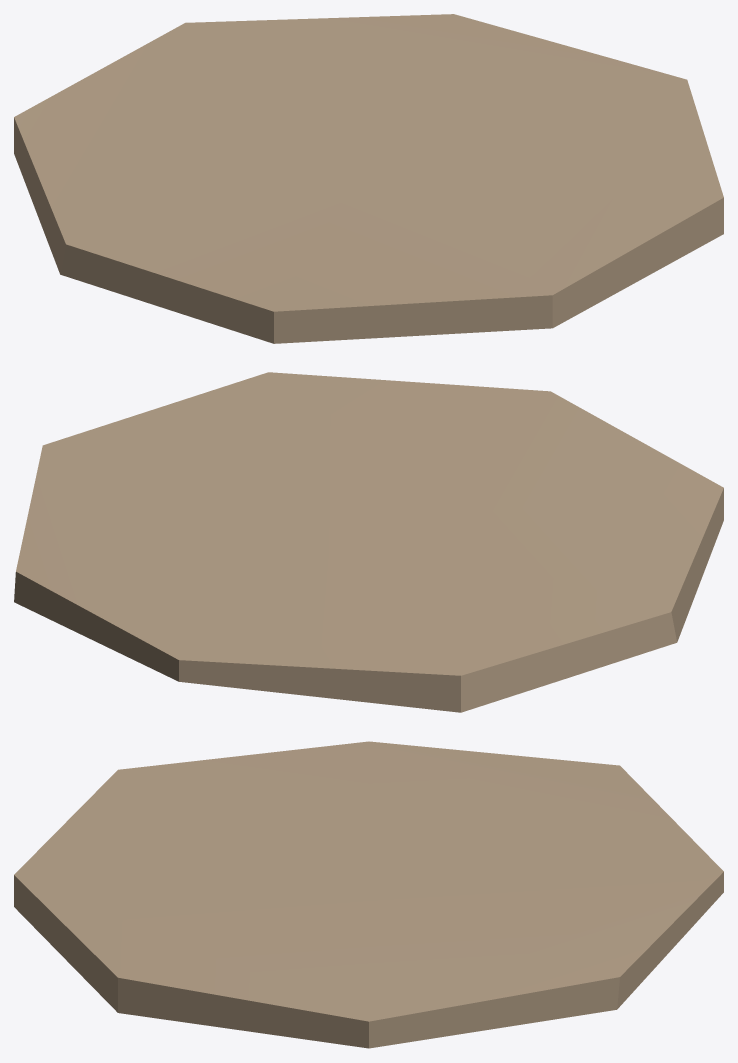
Rendered from Pizza ammo.fbx.
3 renders of one model, top to bottom at view 1: azimuth 30°, elevation 25°; view 2: azimuth 150°, elevation 25°; view 3: azimuth 270°, elevation 25°, orthographic. The views are drawn at different scales.
Visible parts, largest first — view 1: pSphere48; view 2: pSphere48; view 3: pSphere48.
Part boxes in pixels (left/top/right/bottom): pSphere48: left=14, top=14, right=723, bottom=343; pSphere48: left=14, top=372, right=723, bottom=712; pSphere48: left=14, top=741, right=723, bottom=1048.
Bounding box in the file's own units: 0.8238 × 0.0596 × 0.8363.
